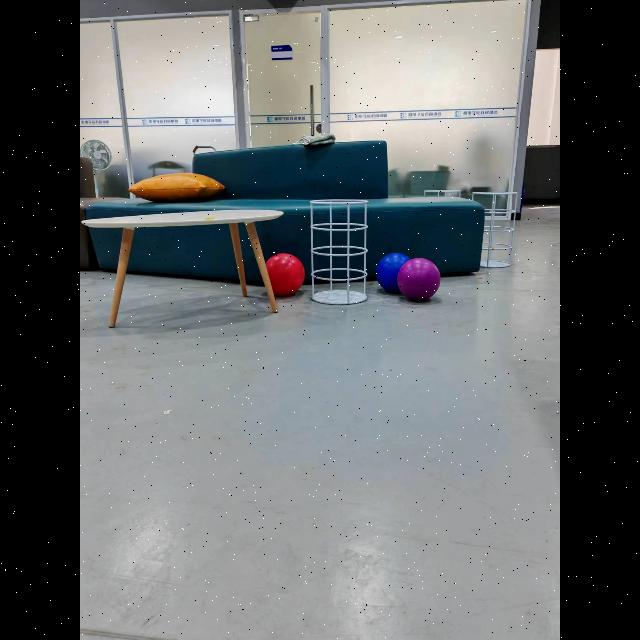B: (376, 253, 410, 293)
P: (398, 259, 441, 301)
R: (265, 253, 305, 295)
S: (310, 200, 368, 305), (471, 192, 517, 268)
